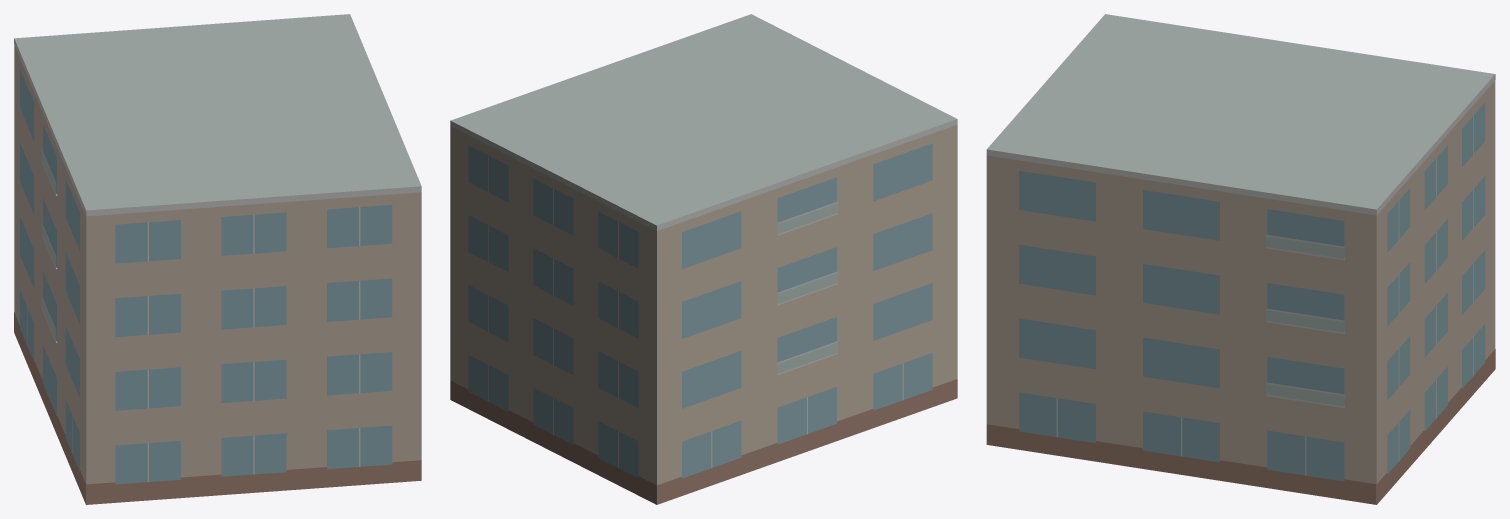
Rendered from survey-upis-32657981.glb.
3 renders of one model, left to right at view 1: azimuth 30°, elevation 25°; view 2: azimuth 150°, elevation 25°; view 3: azimuth 270°, elevation 25°, orthographic. The views are drawn at different scales.
Visible parts, largest first — view 1: survey-upis-32657981.tmp; view 2: survey-upis-32657981.tmp; view 3: survey-upis-32657981.tmp.
Boxes of the visible parts, x1=… form: survey-upis-32657981.tmp: x1=14, y1=14, x2=421, y2=504; survey-upis-32657981.tmp: x1=450, y1=14, x2=957, y2=504; survey-upis-32657981.tmp: x1=986, y1=14, x2=1495, y2=504.
Size of the model in its own units: 17.33 by 12.2 by 19.06.
